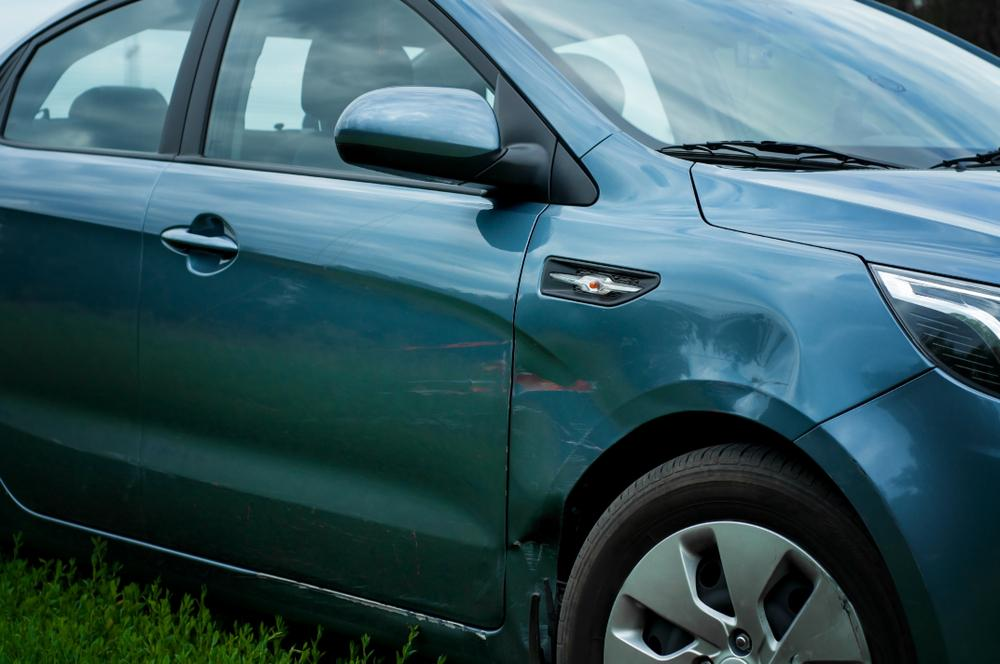dent: (503, 307, 793, 579)
scratch: (403, 336, 523, 426)
